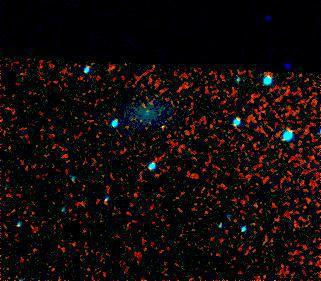star: (127, 107, 157, 137)
